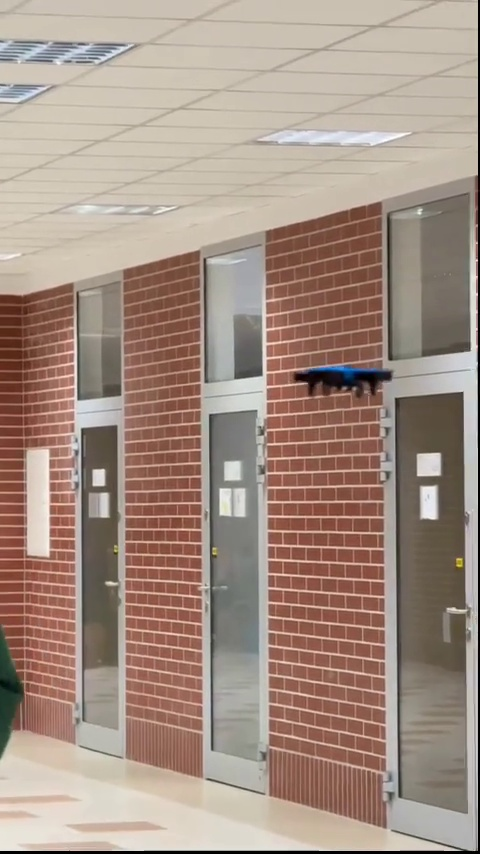drone: (293, 364, 393, 403)
